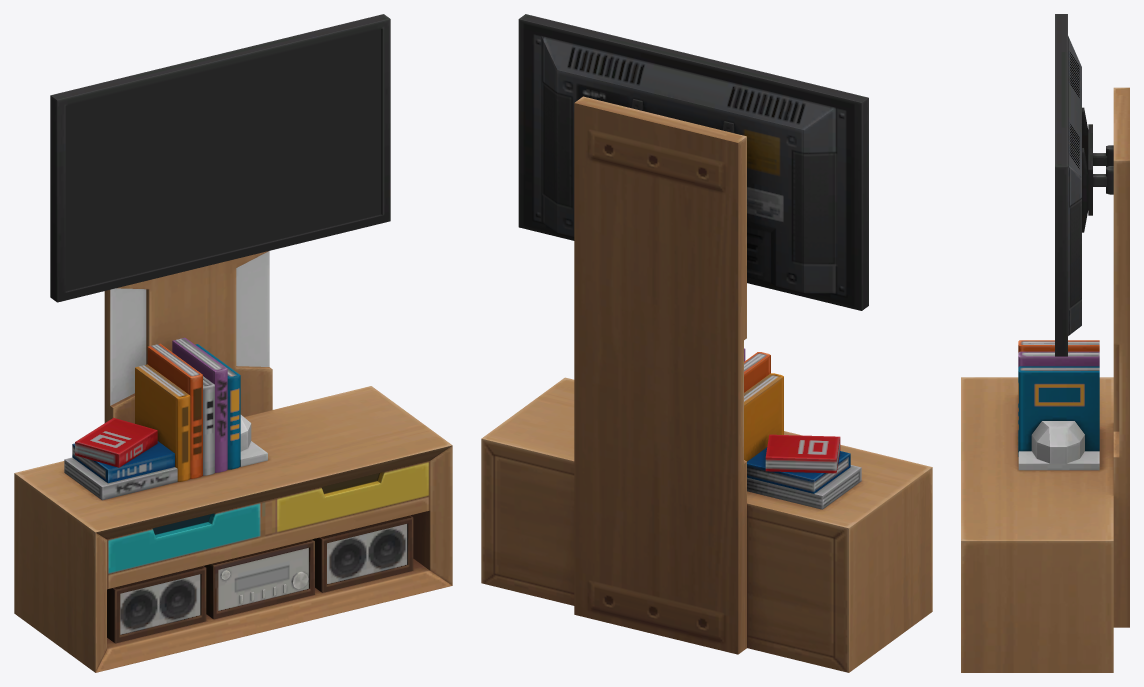
File: 壁挂媒体柜.glb
3 renders of one model, left to right at view 1: azimuth 30°, elevation 25°; view 2: azimuth 150°, elevation 25°; view 3: azimuth 270°, elevation 25°, orthographic. The views are drawn at different scales.
Parts seen in each view (by area): view 1: TinyLiving_MediaMarathoner_AllontheWall_10, s4studio_mesh_3.001_9; view 2: TinyLiving_MediaMarathoner_AllontheWall_10; view 3: TinyLiving_MediaMarathoner_AllontheWall_10.
Part boxes in pixels (x1=…): TinyLiving_MediaMarathoner_AllontheWall_10: x1=14, y1=14, x2=452, y2=672; s4studio_mesh_3.001_9: x1=65, y1=29, x2=381, y2=290; TinyLiving_MediaMarathoner_AllontheWall_10: x1=481, y1=14, x2=932, y2=672; TinyLiving_MediaMarathoner_AllontheWall_10: x1=961, y1=14, x2=1129, y2=672.
Size of the model in its own units: 0.8412 by 1.2 by 0.367.
Materials: 2 (1 with a texture image).
